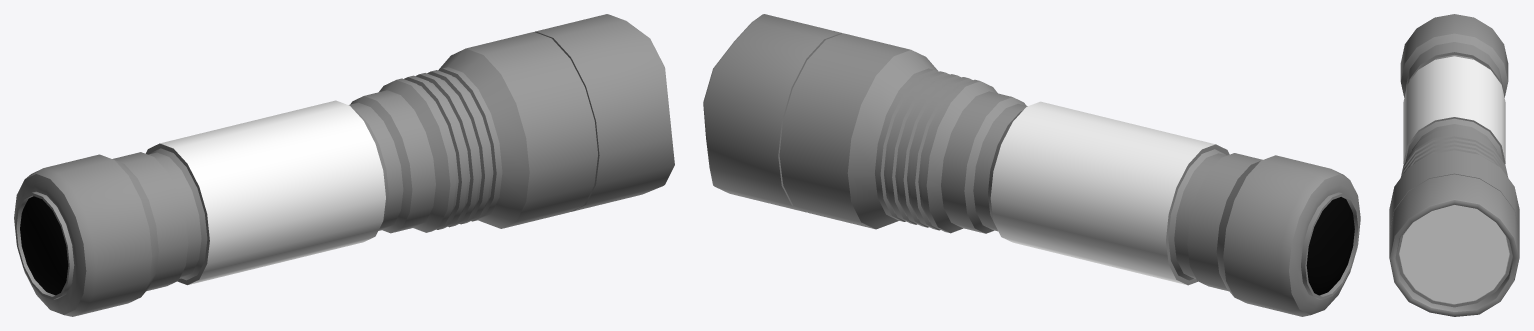
Rendered from Light.obj.
3 renders of one model, left to right at view 1: azimuth 30°, elevation 25°; view 2: azimuth 150°, elevation 25°; view 3: azimuth 270°, elevation 25°, orthographic. The views are drawn at different scales.
Visible parts, largest first — view 1: Cylinder; view 2: Cylinder; view 3: Cylinder.
Part boxes in pixels (x1,y1,x2,y2): Cylinder: (14,14,674,316); Cylinder: (703,14,1360,316); Cylinder: (1389,14,1519,316).
Bounding box in the file's own units: 7.45 × 2 × 2.
